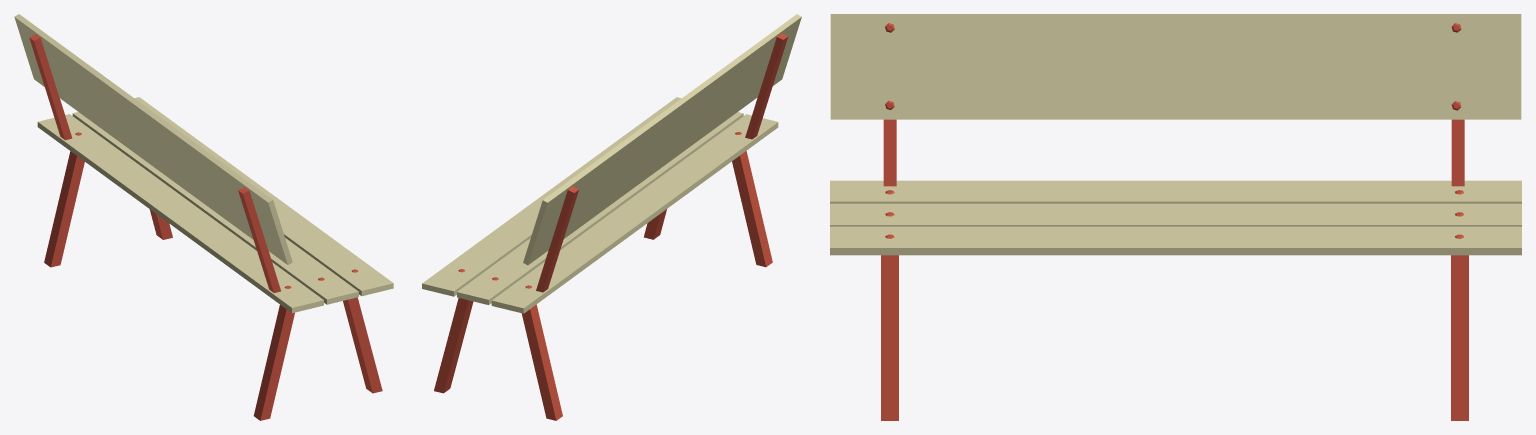
File: Bench.gltf
3 views of the same model, side by side, from view 1: azimuth 30°, elevation 25°; view 2: azimuth 150°, elevation 25°; view 3: azimuth 270°, elevation 25° (orthographic). The views are drawn at different scales.
Parts seen in each view (by area): view 1: SM_Bench_02; view 2: SM_Bench_02; view 3: SM_Bench_02.
Boxes of the visible parts, x1,y1,x2,y2 form: SM_Bench_02: (14, 14, 393, 420); SM_Bench_02: (422, 14, 801, 420); SM_Bench_02: (830, 14, 1521, 420).
Bounding box in the file's own units: 0.5948 × 0.9662 × 1.89.
Materials: 1 (1 with a texture image).
